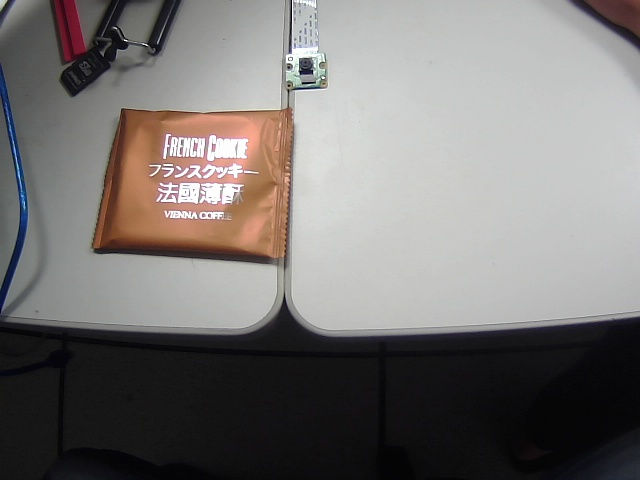frenchcookie: (88, 102, 306, 279)
